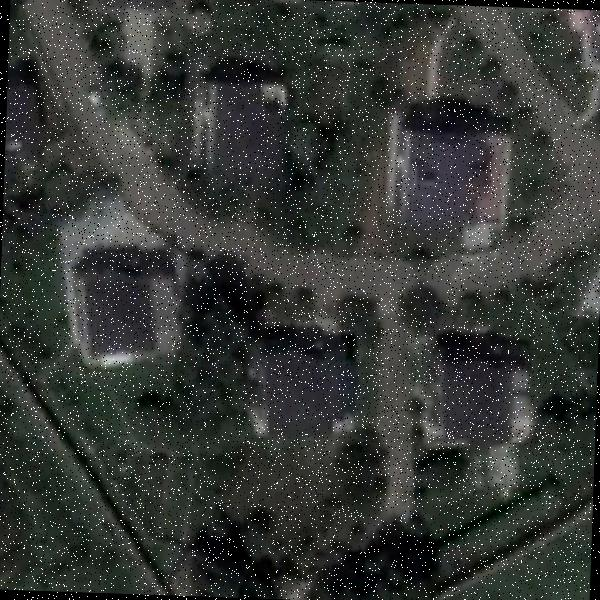Buildings: (397, 122, 504, 251), (248, 332, 348, 436), (79, 272, 178, 360), (436, 358, 528, 438), (204, 82, 280, 168), (4, 88, 54, 176)
